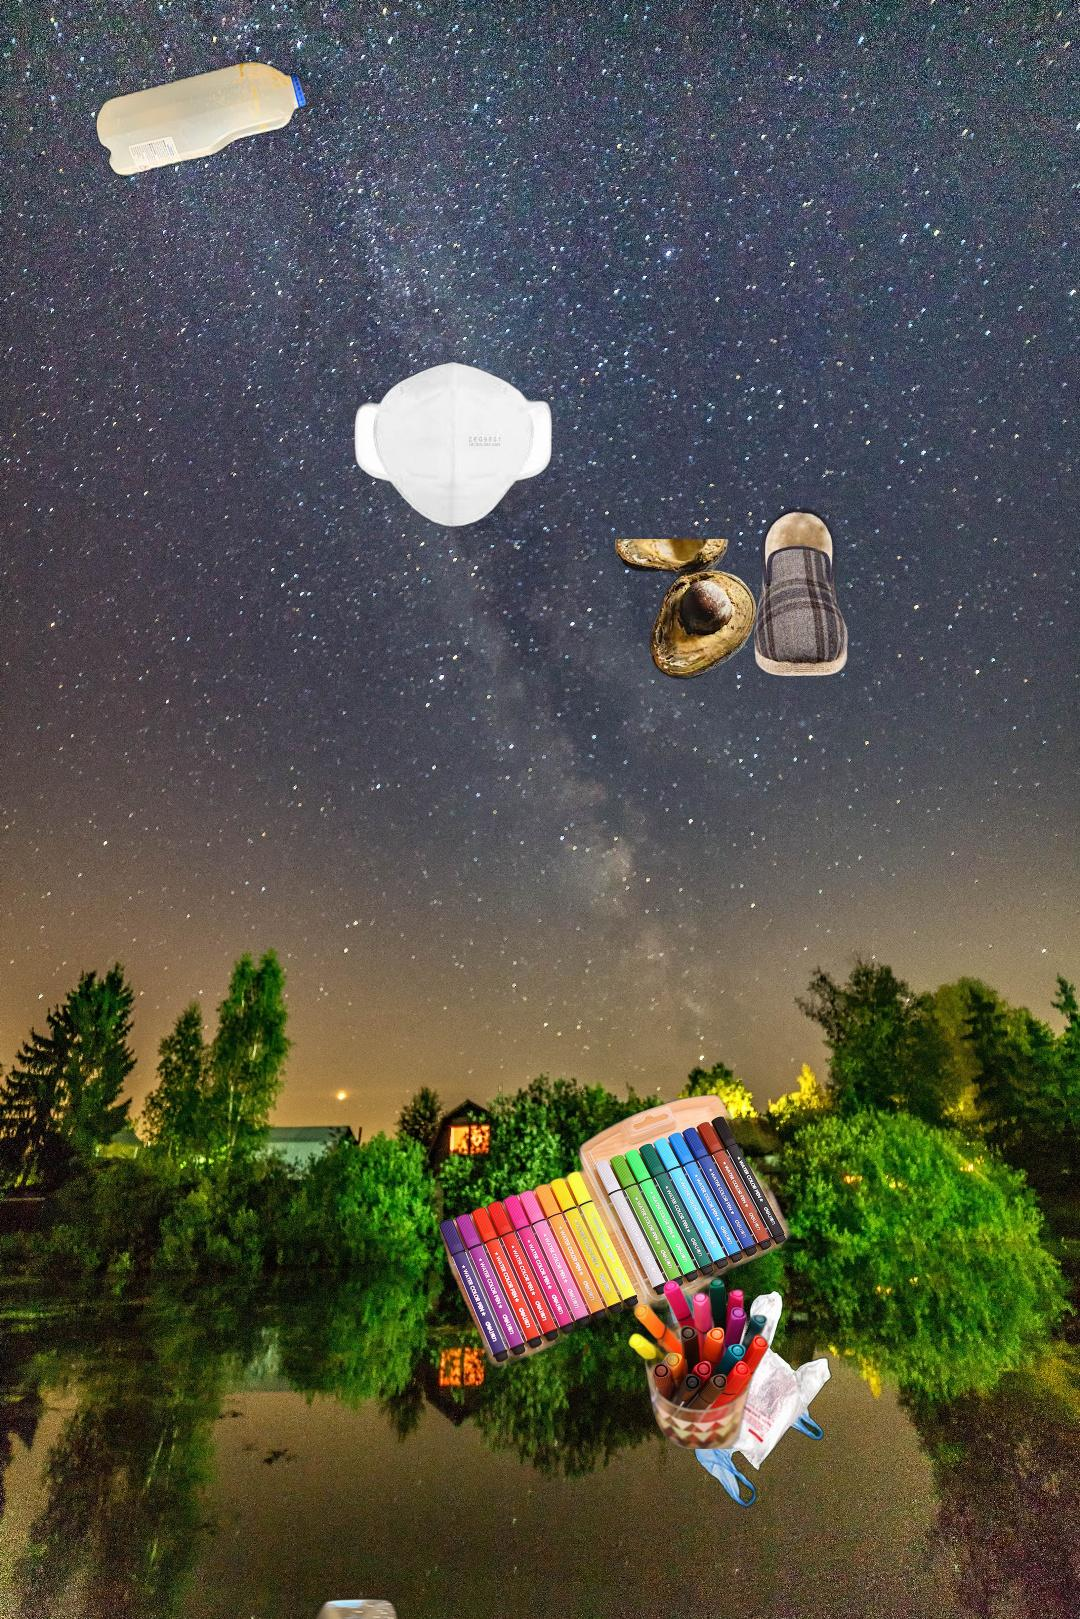biological: (612, 539, 759, 682)
penholder: (433, 1091, 800, 1449)
plastic-bag: (647, 1265, 835, 1511)
plastic-bottles: (90, 57, 311, 182), (309, 1592, 419, 1619)
shoes: (751, 506, 851, 679)
trash: (351, 359, 556, 530)
